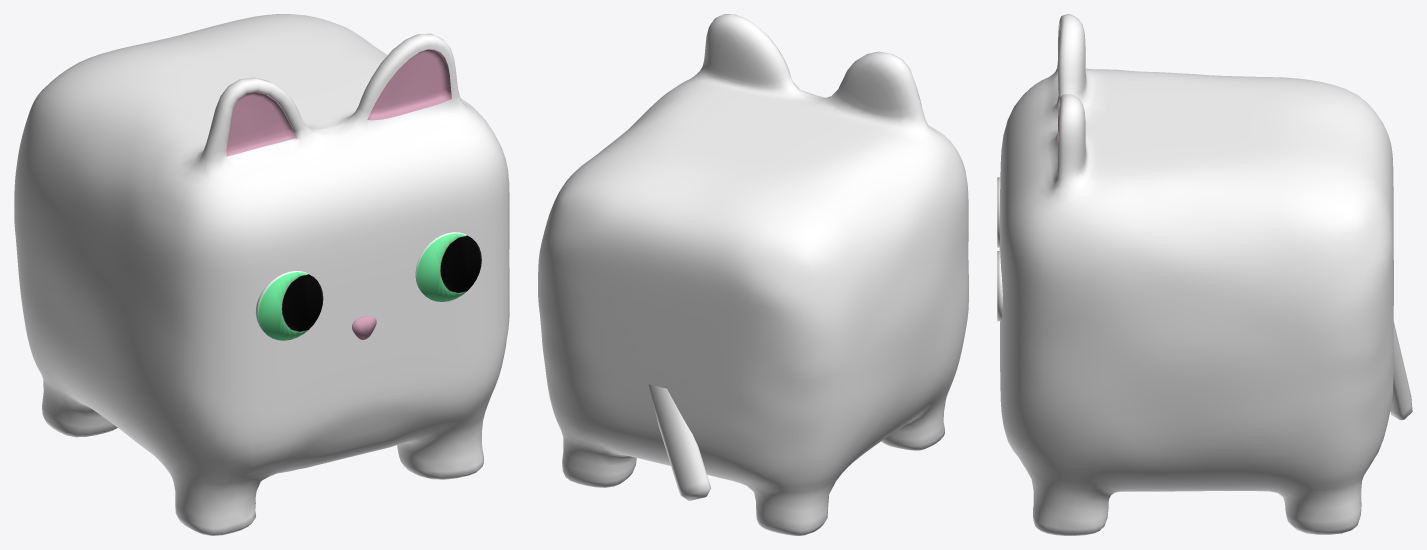
The picture shows the model from 3 angles, left to right: view 1: azimuth 30°, elevation 25°; view 2: azimuth 150°, elevation 25°; view 3: azimuth 270°, elevation 25°; orthographic projection. The views are drawn at different scales.
Parts seen in each view (by area): view 1: 白猫猫; view 2: 白猫猫; view 3: 白猫猫.
Boxes of the visible parts, <box> form: 白猫猫: <box>14,14,509,535</box>; 白猫猫: <box>538,14,968,535</box>; 白猫猫: <box>997,14,1412,535</box>.
Bounding box in the file's own units: 205 × 234 × 211.
